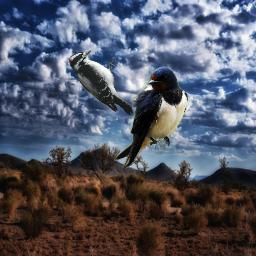Swallow: (114, 66, 189, 171)
Woodpecker: (69, 50, 133, 115)
